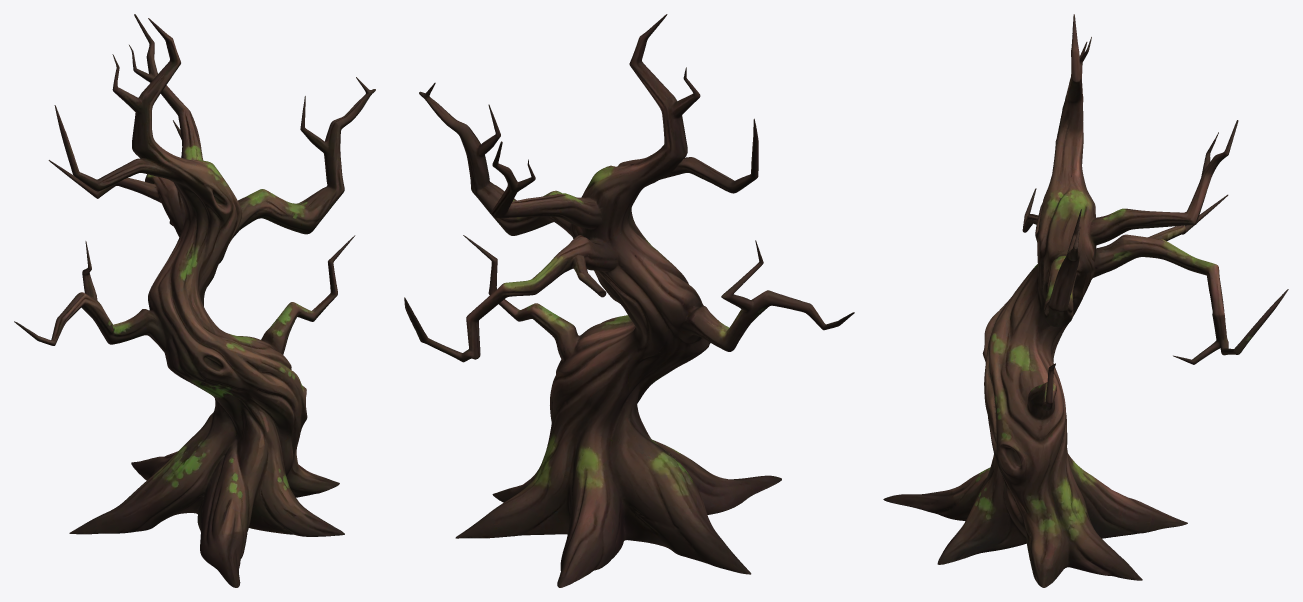
The model's file is gnarled_tree.glb.
3 renders of one model, left to right at view 1: azimuth 30°, elevation 25°; view 2: azimuth 150°, elevation 25°; view 3: azimuth 270°, elevation 25°, orthographic. The views are drawn at different scales.
Bounding box in the file's own units: 1.53 × 1.9 × 1.43.
1 material, 1 textured.
